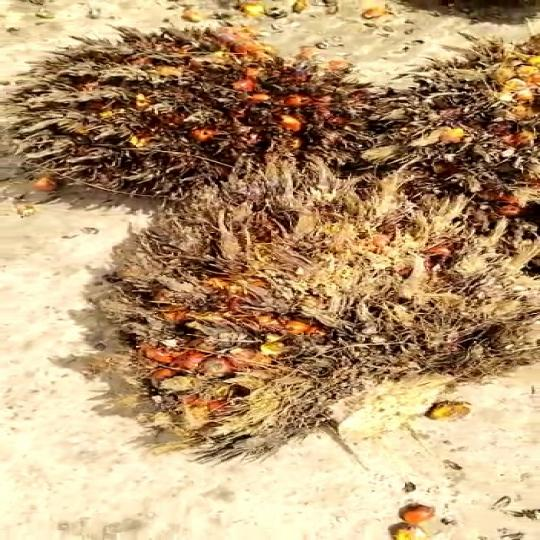terlalu masak: (0, 14, 391, 209)
